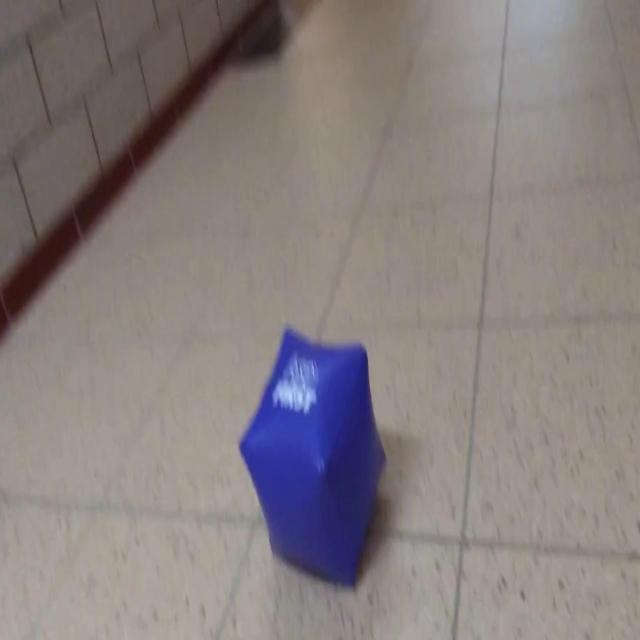frc_cube: (239, 327, 385, 587)
